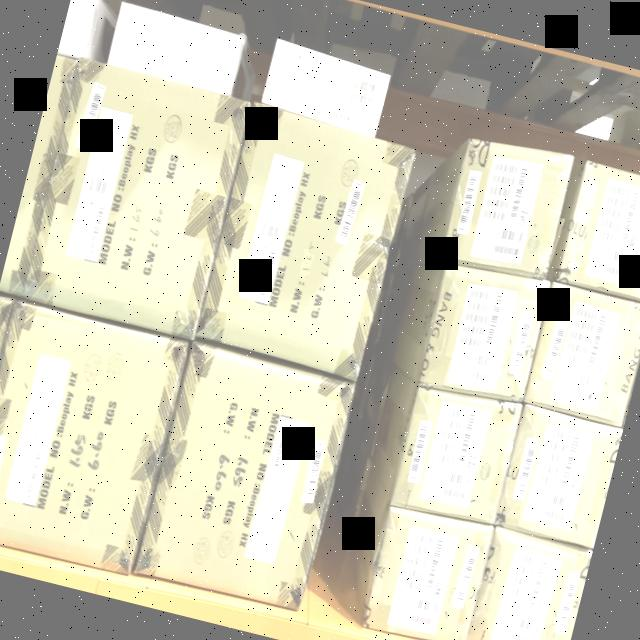box: (23, 60, 250, 338), (196, 103, 414, 379), (135, 346, 354, 613), (0, 303, 185, 573), (392, 387, 520, 529), (496, 404, 623, 547), (363, 504, 492, 640), (421, 267, 546, 404), (443, 146, 571, 276), (524, 285, 640, 424), (467, 528, 591, 640), (108, 5, 245, 94), (558, 162, 640, 302), (262, 46, 390, 130)
